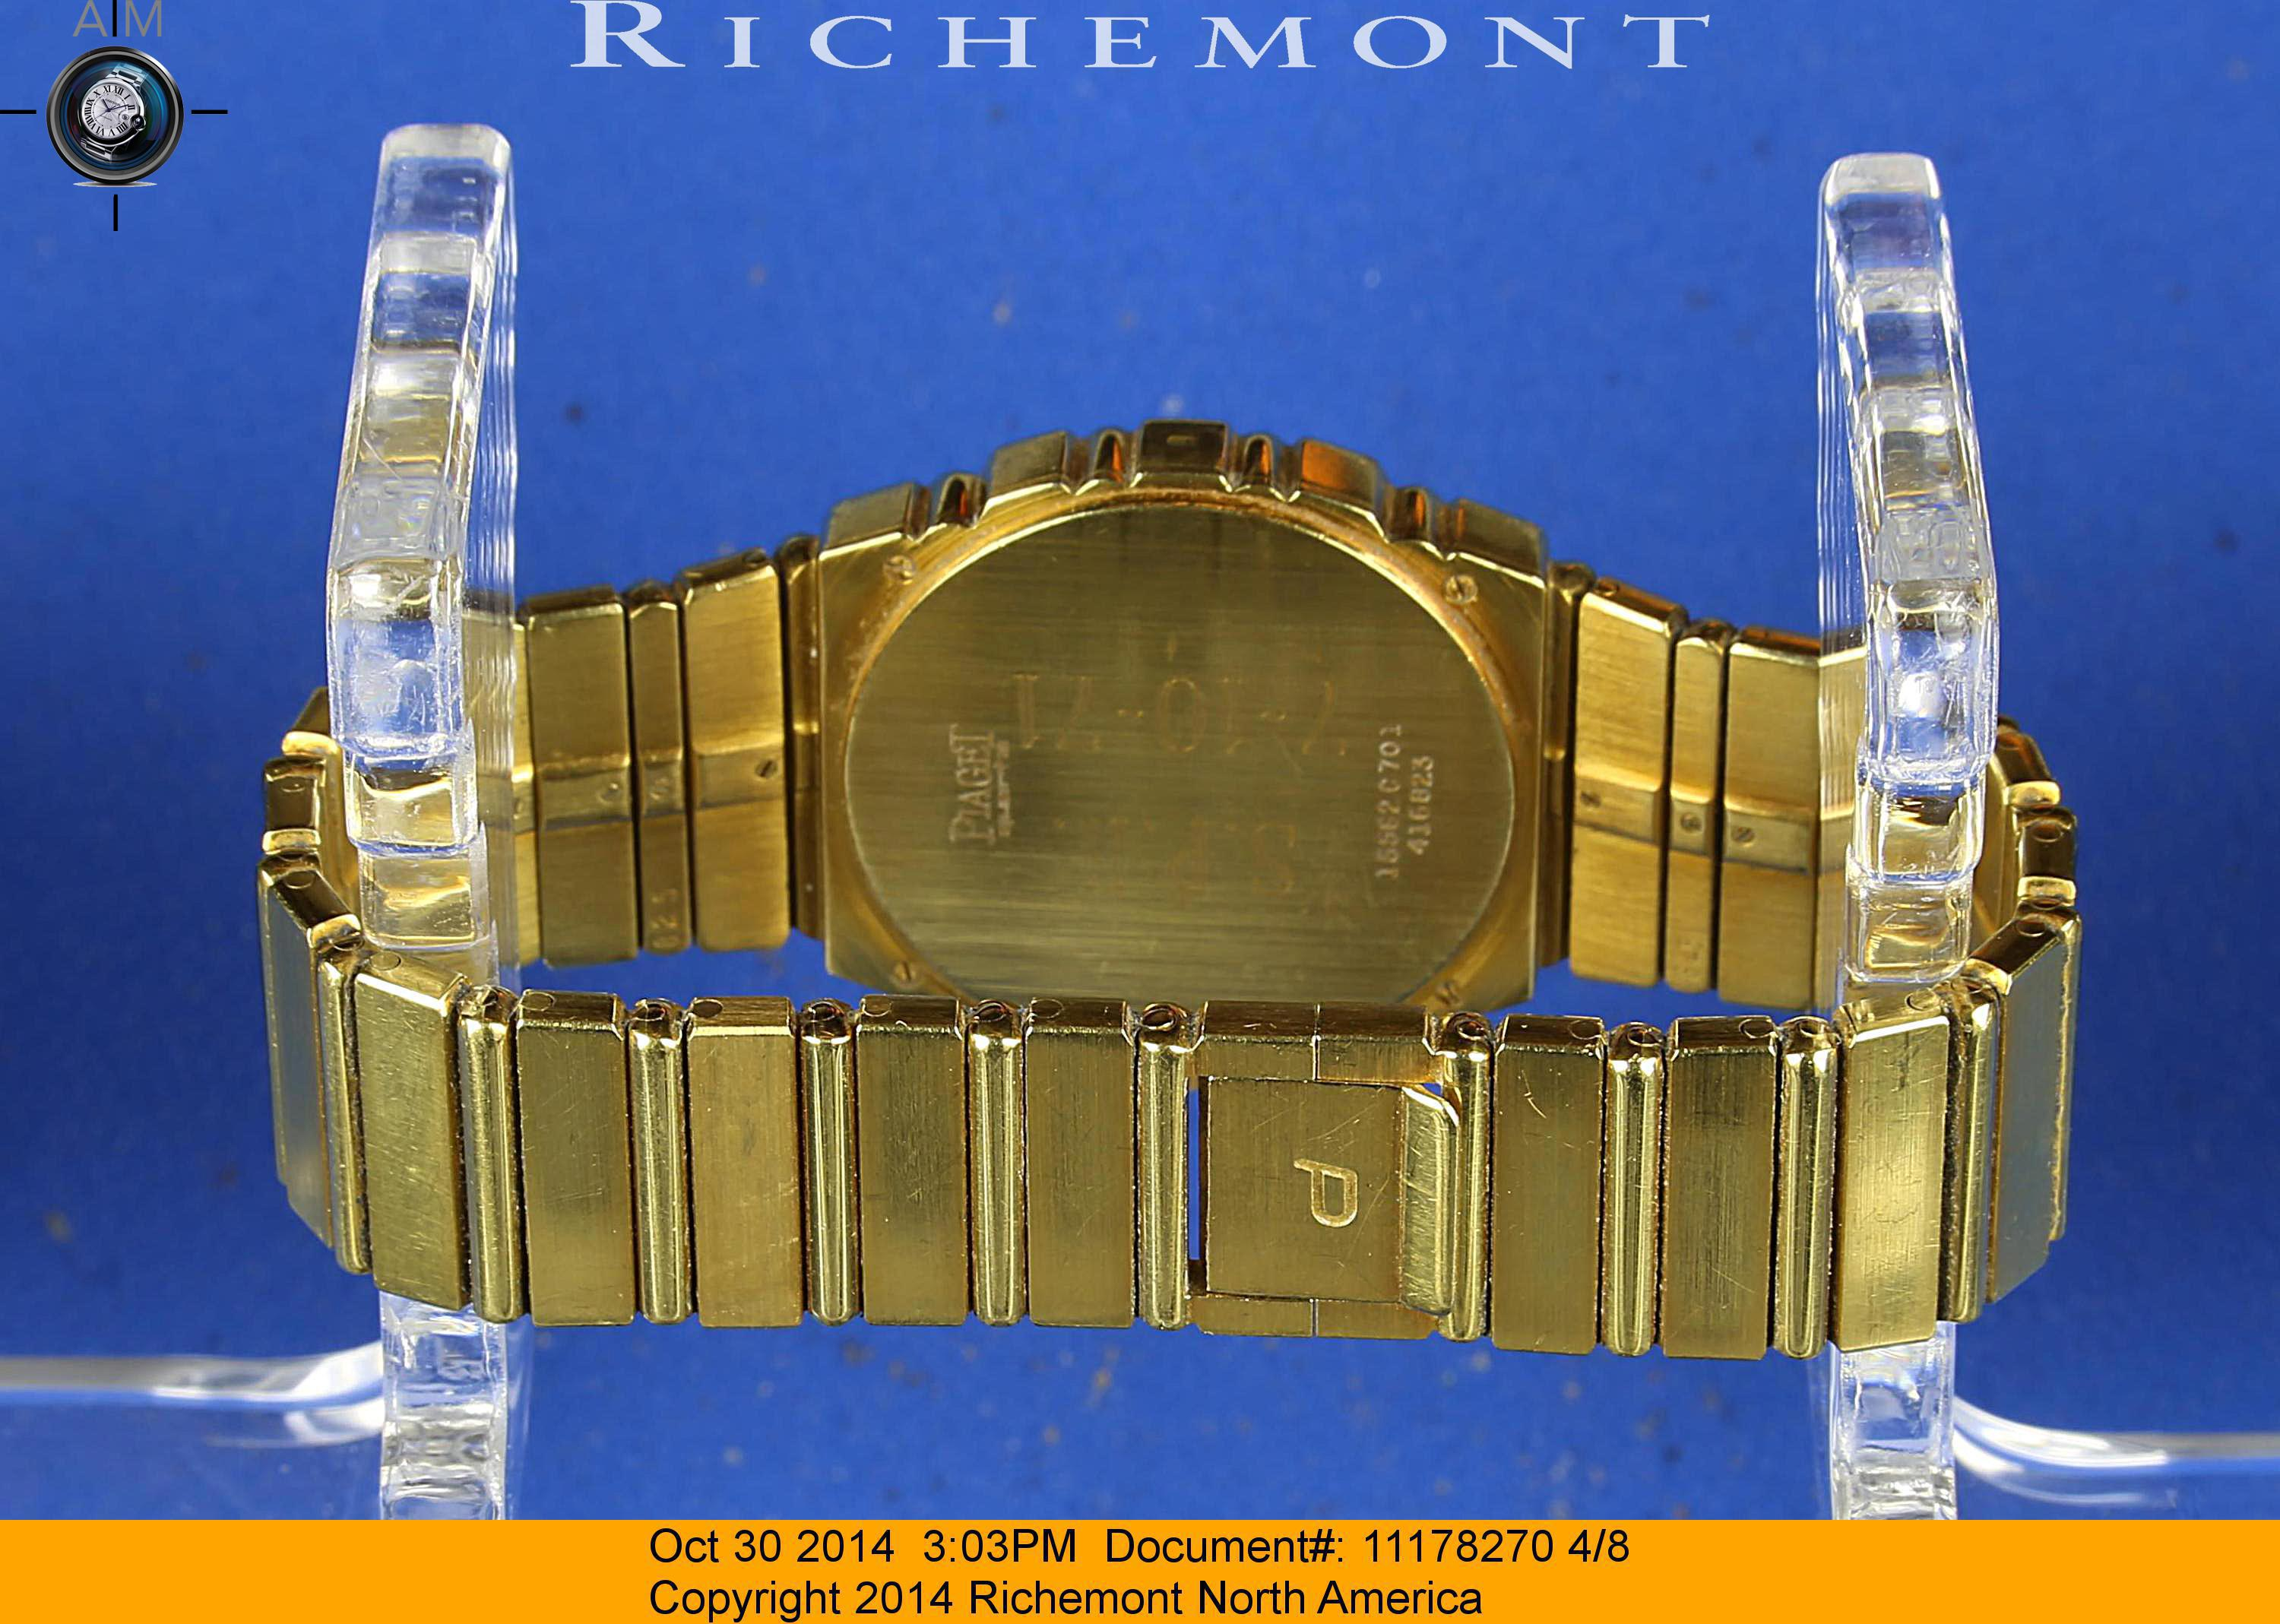Watch BackCase: (798, 410, 1545, 1004)
